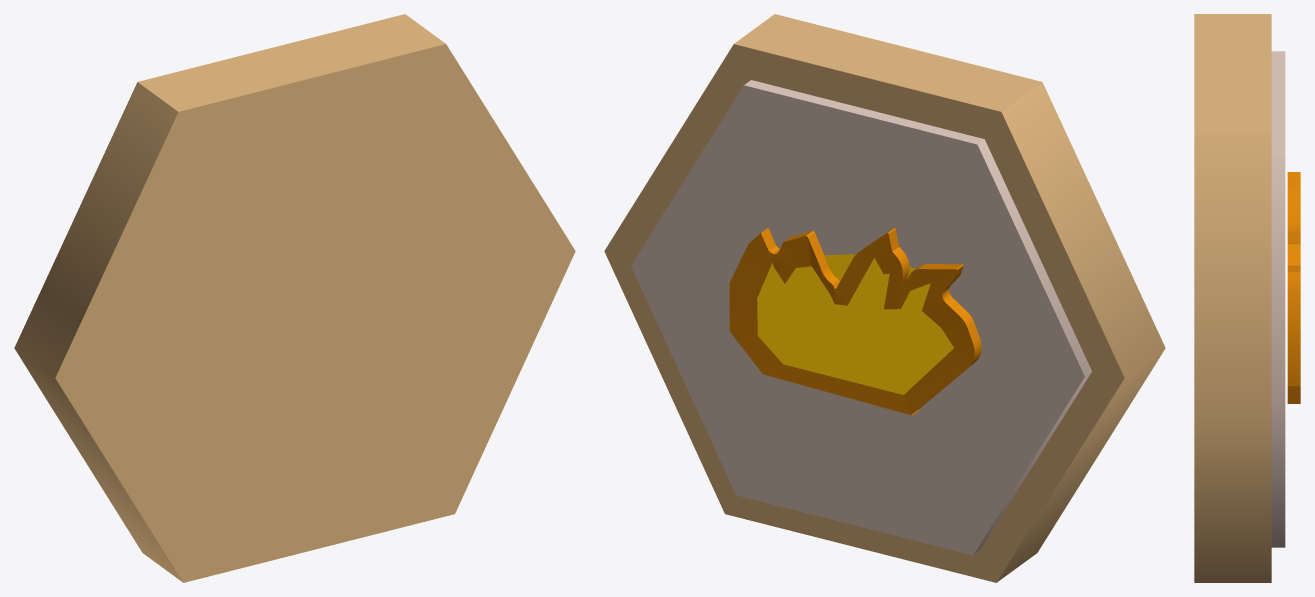
File: FireWall.fbx
The picture shows the model from 3 angles, left to right: view 1: azimuth 30°, elevation 25°; view 2: azimuth 150°, elevation 25°; view 3: azimuth 270°, elevation 25°; orthographic projection. The views are drawn at different scales.
Visible parts, largest first — view 1: Firewall; view 2: Firewall; view 3: Firewall.
Boxes of the visible parts, x1,y1,x2,y2 form: Firewall: (14,14,575,582); Firewall: (604,14,1165,582); Firewall: (1194,14,1300,582).
Bounding box in the file's own units: 6.69 × 5.83 × 1.26.
